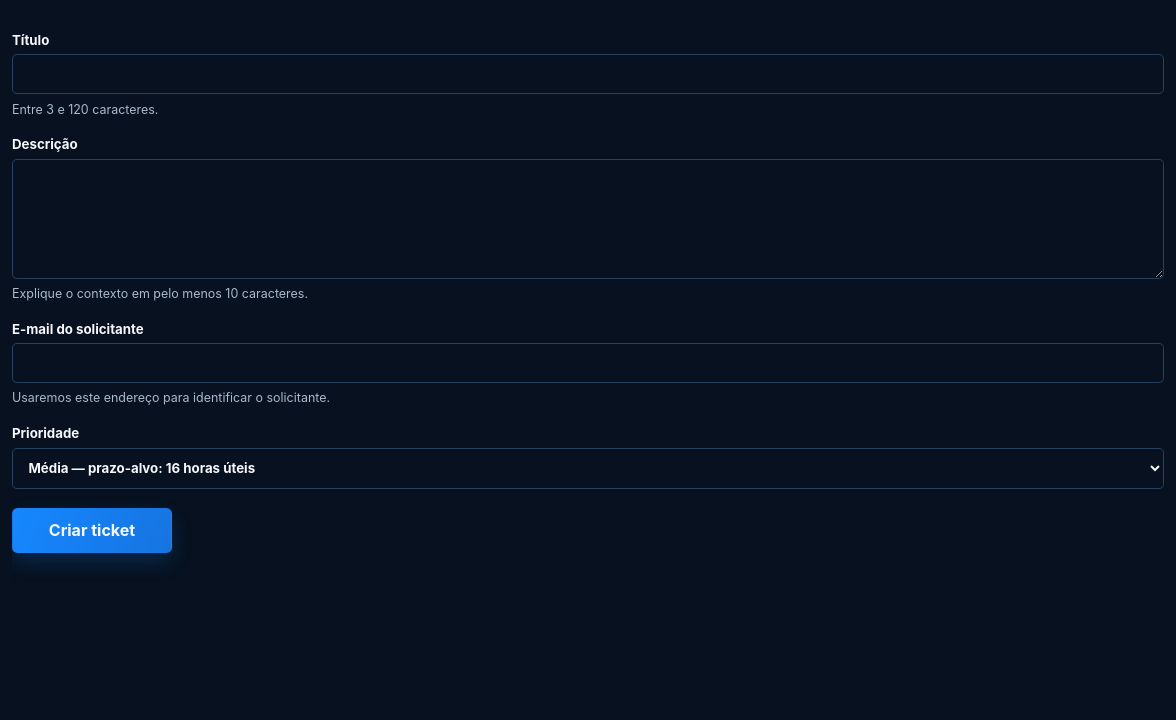
TicketForm › impede o envio de dados inválidos e associa o erro ao título
Click the button "Criar ticket": click(92, 530) [12, 508, 172, 552]
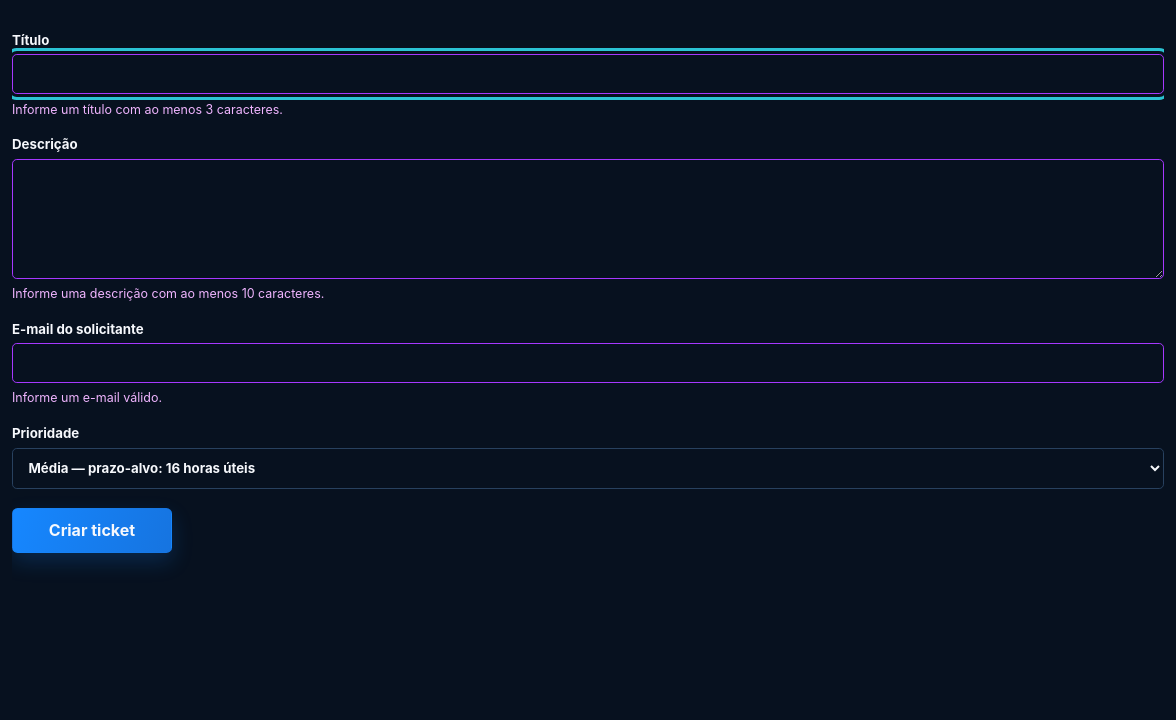
Expected: the text "Informe um título com ao menos 3 caracteres." is shown, [12, 102, 283, 116]
